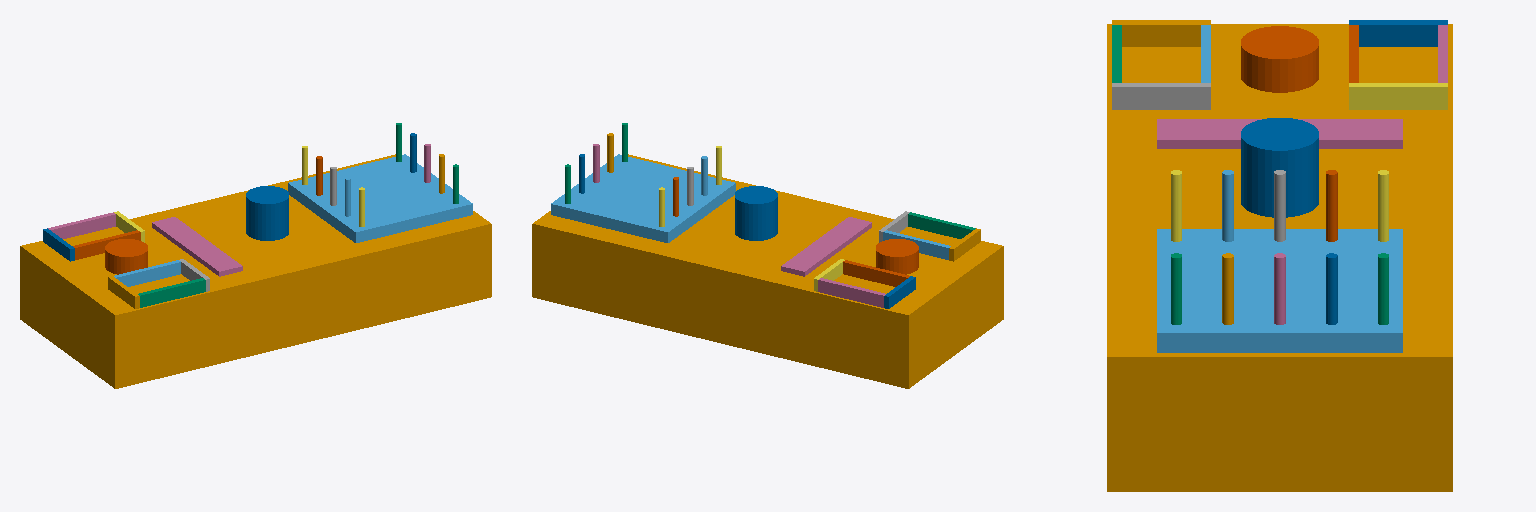
URDF robot description (carritov2):
<?xml version="1.0"?>
<robot name="carritov2">

  <link name="chasis1">
    <inertial>
      <origin xyz="0 0 0" rpy="0 0 0"/>
      <mass value="1.0" />
      <inertia ixx="0.0741666666667" ixy="0.0" ixz="0.0" iyy="0.0585416666667" iyz="0.0" izz="0.0260416666667"/>
    </inertial>
    <visual>
      <geometry>
        <box size="1.60 0.70 0.30"/> <!--cotas en cm -->
      </geometry>
    </visual>
  </link>

  <link name="chasis2">
    <inertial>
      <origin xyz="0 0 0" rpy="0 0 0"/>
      <mass value="1.0" />
      <inertia ixx="0.0741666666667" ixy="0.0" ixz="0.0" iyy="0.0585416666667" iyz="0.0" izz="0.0260416666667"/>
    </inertial>
    <visual>
      <geometry>
        <box size="0.5 0.5 0.05"/>
      </geometry>
      <material name="aluminium"/>
    </visual>
  </link>

  <joint name="chasis1_to_chasis2" type="fixed">
    <parent link="chasis1"/>
    <child link="chasis2"/>
    <origin rpy="0 0 0" xyz="0.53 0 0.17"/>
  </joint>




 <!-- CODIGO SOPORTES -->




  <link name="soporte1_base1">
    <inertial>
      <origin xyz="0 0 0" rpy="0 0 0"/>
      <mass value="1.0" />
      <inertia ixx="0.0741666666667" ixy="0.0" ixz="0.0" iyy="0.0585416666667" iyz="0.0" izz="0.0260416666667"/>
    </inertial>
    <visual>
      <geometry>
        <cylinder length="0.15" radius="0.012"/>
      </geometry>
    </visual>
  </link>

  <joint name="soporte1_base1_to_chasis2" type="fixed">
    <parent link="chasis2"/>
    <child link="soporte1_base1"/>
    <origin rpy="0 0 0" xyz="0.2 0.21 0.100"/>
  </joint>

  <link name="soporte1_base2">
    <inertial>
      <origin xyz="0 0 0" rpy="0 0 0"/>
      <mass value="1.0" />
      <inertia ixx="0.0741666666667" ixy="0.0" ixz="0.0" iyy="0.0585416666667" iyz="0.0" izz="0.0260416666667"/>
    </inertial>
    <visual>
      <geometry>
        <cylinder length="0.15" radius="0.012"/>
      </geometry>
    </visual>
  </link>

  <joint name="soporte1_base2_to_chasis2" type="fixed">
    <parent link="chasis2"/>
    <child link="soporte1_base2"/>
    <origin rpy="0 0 0" xyz="-0.2 0.21 0.1000"/>
  </joint>

  <link name="soporte2_base1">
    <inertial>
      <origin xyz="0 0 0" rpy="0 0 0"/>
      <mass value="1.0" />
      <inertia ixx="0.0741666666667" ixy="0.0" ixz="0.0" iyy="0.0585416666667" iyz="0.0" izz="0.0260416666667"/>
    </inertial>
    <visual>
      <geometry>
        <cylinder length="0.15" radius="0.012"/>
      </geometry>
    </visual>
  </link>

  <joint name="soporte2_base1_to_chasis2" type="fixed">
    <parent link="chasis2"/>
    <child link="soporte2_base1"/>
    <origin rpy="0 0 0" xyz="0.2 0.1050 0.100"/>
  </joint>

  <link name="soporte2_base2">
    <inertial>
      <origin xyz="0 0 0" rpy="0 0 0"/>
      <mass value="1.0" />
      <inertia ixx="0.0741666666667" ixy="0.0" ixz="0.0" iyy="0.0585416666667" iyz="0.0" izz="0.0260416666667"/>
    </inertial>
    <visual>
      <geometry>
        <cylinder length="0.15" radius="0.012"/>
      </geometry>
    </visual>
  </link>

  <joint name="soporte2_base2_to_chasis2" type="fixed">
    <parent link="chasis2"/>
    <child link="soporte2_base2"/>
    <origin rpy="0 0 0" xyz="-0.2 0.1050 0.100"/>
  </joint>

  <link name="soporte3_base1">
    <inertial>
      <origin xyz="0 0 0" rpy="0 0 0"/>
      <mass value="1.0" />
      <inertia ixx="0.0741666666667" ixy="0.0" ixz="0.0" iyy="0.0585416666667" iyz="0.0" izz="0.0260416666667"/>
    </inertial>
    <visual>
      <geometry>
        <cylinder length="0.15" radius="0.012"/>
      </geometry>
    </visual>
  </link>

  <joint name="soporte3_base1_to_chasis2" type="fixed">
    <parent link="chasis2"/>
    <child link="soporte3_base1"/>
    <origin rpy="0 0 0" xyz="0.2 0 0.100"/>
  </joint>

  <link name="soporte3_base2">
    <inertial>
      <origin xyz="0 0 0" rpy="0 0 0"/>
      <mass value="1.0" />
      <inertia ixx="0.0741666666667" ixy="0.0" ixz="0.0" iyy="0.0585416666667" iyz="0.0" izz="0.0260416666667"/>
    </inertial>
    <visual>
      <geometry>
        <cylinder length="0.15" radius="0.012"/>
      </geometry>
    </visual>
  </link>

  <joint name="soporte3_base2_to_chasis2" type="fixed">
    <parent link="chasis2"/>
    <child link="soporte3_base2"/>
    <origin rpy="0 0 0" xyz="-0.2 0 0.100"/>
  </joint>

  <link name="soporte4_base1">
    <inertial>
      <origin xyz="0 0 0" rpy="0 0 0"/>
      <mass value="1.0" />
      <inertia ixx="0.0741666666667" ixy="0.0" ixz="0.0" iyy="0.0585416666667" iyz="0.0" izz="0.0260416666667"/>
    </inertial>
    <visual>
      <geometry>
        <cylinder length="0.15" radius="0.012"/>
      </geometry>
    </visual>
  </link>

  <joint name="soporte4_base1_to_chasis2" type="fixed">
    <parent link="chasis2"/>
    <child link="soporte4_base1"/>
    <origin rpy="0 0 0" xyz="0.2 -0.105 0.100"/>
  </joint>

  <link name="soporte4_base2">
    <inertial>
      <origin xyz="0 0 0" rpy="0 0 0"/>
      <mass value="1.0" />
      <inertia ixx="0.0741666666667" ixy="0.0" ixz="0.0" iyy="0.0585416666667" iyz="0.0" izz="0.0260416666667"/>
    </inertial>
    <visual>
      <geometry>
        <cylinder length="0.15" radius="0.012"/>
      </geometry>
    </visual>
  </link>

  <joint name="soporte4_base2_to_chasis2" type="fixed">
    <parent link="chasis2"/>
    <child link="soporte4_base2"/>
    <origin rpy="0 0 0" xyz="-0.2 -0.105 0.100"/>
  </joint>

  <link name="soporte5_base1">
    <inertial>
      <origin xyz="0 0 0" rpy="0 0 0"/>
      <mass value="1.0" />
      <inertia ixx="0.0741666666667" ixy="0.0" ixz="0.0" iyy="0.0585416666667" iyz="0.0" izz="0.0260416666667"/>
    </inertial>
    <visual>
      <geometry>
        <cylinder length="0.15" radius="0.012"/>
      </geometry>
    </visual>
  </link>

  <joint name="soporte5_base1_to_chasis2" type="fixed">
    <parent link="chasis2"/>
    <child link="soporte5_base1"/>
    <origin rpy="0 0 0" xyz="0.2 -0.210 0.100"/>
  </joint>

  <link name="soporte5_base2">
    <inertial>
      <origin xyz="0 0 0" rpy="0 0 0"/>
      <mass value="1.0" />
      <inertia ixx="0.0741666666667" ixy="0.0" ixz="0.0" iyy="0.0585416666667" iyz="0.0" izz="0.0260416666667"/>
    </inertial>
    <visual>
      <geometry>
        <cylinder length="0.15" radius="0.012"/>
      </geometry>
    </visual>
  </link>

  <joint name="soporte5_base2_to_chasis2" type="fixed">
    <parent link="chasis2"/>
    <child link="soporte5_base2"/>
    <origin rpy="0 0 0" xyz="-0.2 -0.210 0.100"/>
  </joint>





<!-- CÓDIGO SOPORTES BRAZOS -->





  <link name="soporte_ur3_sep">
    <inertial>
      <origin xyz="0 0 0" rpy="0 0 0"/>
      <mass value="1.0" />
      <inertia ixx="0.0741666666667" ixy="0.0" ixz="0.0" iyy="0.0585416666667" iyz="0.0" izz="0.0260416666667"/>
    </inertial>
    <visual>
      <geometry>
        <cylinder length="0.15" radius="0.08"/>
      </geometry>
    </visual>
  </link>

  <joint name="soporte_ur3_sep_to_chassis1" type="fixed">
    <parent link="chasis1"/>
    <child link="soporte_ur3_sep"/>
    <origin rpy="0 0 0" xyz="0.05 0 0.2250"/>
  </joint>

  <link name="soporte_ur3_at">
    <inertial>
      <origin xyz="0 0 0" rpy="0 0 0"/>
      <mass value="1.0" />
      <inertia ixx="0.0741666666667" ixy="0.0" ixz="0.0" iyy="0.0585416666667" iyz="0.0" izz="0.0260416666667"/>
    </inertial>
    <visual>
      <geometry>
        <cylinder length="0.075" radius="0.08"/>
      </geometry>
    </visual>
  </link>

  <joint name="soporte_ur3_at_to_chassis1" type="fixed">
    <parent link="chasis1"/>
    <child link="soporte_ur3_at"/>
    <origin rpy="0 0 0" xyz="-0.55 0 0.1875"/>
  </joint>




<!-- CÓDIGO ZONA DE TRABAJO Y BUFFERS -->




  <link name="zona_union">
    <inertial>
      <origin xyz="0 0 0" rpy="0 0 0"/>
      <mass value="1.0" />
      <inertia ixx="0.0741666666667" ixy="0.0" ixz="0.0" iyy="0.0585416666667" iyz="0.0" izz="0.0260416666667"/>
    </inertial>
    <visual>
      <geometry>
        <box size="0.1 0.5 0.02"/>
      </geometry>
      <material name="aluminium"/>
    </visual>
  </link>

  <joint name="chasis1_to_zona_union" type="fixed">
    <parent link="chasis1"/>
    <child link="zona_union"/>
    <origin rpy="0 0 0" xyz="-0.25 0 0.16"/>
  </joint>

  <link name="pared1_buffer1">
    <inertial>
      <origin xyz="0 0 0" rpy="0 0 0"/>
      <mass value="1.0" />
      <inertia ixx="0.0741666666667" ixy="0.0" ixz="0.0" iyy="0.0585416666667" iyz="0.0" izz="0.0260416666667"/>
    </inertial>
    <visual>
      <geometry>
        <box size="0.02 0.2 0.05"/>
      </geometry>
      <material name="aluminium"/>
    </visual>
  </link>

  <joint name="chasis1_to_pared1_buffer1" type="fixed">
    <parent link="chasis1"/>
    <child link="pared1_buffer1"/>
    <origin rpy="0 0 0" xyz="-0.4 -0.24 0.175"/>
  </joint>

  <link name="pared2_buffer1">
    <inertial>
      <origin xyz="0 0 0" rpy="0 0 0"/>
      <mass value="1.0" />
      <inertia ixx="0.0741666666667" ixy="0.0" ixz="0.0" iyy="0.0585416666667" iyz="0.0" izz="0.0260416666667"/>
    </inertial>
    <visual>
      <geometry>
        <box size="0.02 0.2 0.05"/>
      </geometry>
      <material name="aluminium"/>
    </visual>
  </link>

  <joint name="chasis1_to_pared2_buffer1" type="fixed">
    <parent link="chasis1"/>
    <child link="pared2_buffer1"/>
    <origin rpy="0 0 0" xyz="-0.7 -0.24 0.175"/>
  </joint>

  <link name="pared3_buffer1">
    <inertial>
      <origin xyz="0 0 0" rpy="0 0 0"/>
      <mass value="1.0" />
      <inertia ixx="0.0741666666667" ixy="0.0" ixz="0.0" iyy="0.0585416666667" iyz="0.0" izz="0.0260416666667"/>
    </inertial>
    <visual>
      <geometry>
        <box size="0.02 0.28 0.05"/>
      </geometry>
      <material name="aluminium"/>
    </visual>
  </link>

  <joint name="chasis1_to_pared3_buffer1" type="fixed">
    <parent link="chasis1"/>
    <child link="pared3_buffer1"/>
    <origin rpy="0 0 1.57" xyz="-0.55 -0.15 0.175"/>
  </joint>

  <link name="pared4_buffer1">
    <inertial>
      <origin xyz="0 0 0" rpy="0 0 0"/>
      <mass value="1.0" />
      <inertia ixx="0.0741666666667" ixy="0.0" ixz="0.0" iyy="0.0585416666667" iyz="0.0" izz="0.0260416666667"/>
    </inertial>
    <visual>
      <geometry>
        <box size="0.02 0.28 0.05"/>
      </geometry>
      <material name="aluminium"/>
    </visual>
  </link>

  <joint name="chasis1_to_pared4_buffer1" type="fixed">
    <parent link="chasis1"/>
    <child link="pared4_buffer1"/>
    <origin rpy="0 0 1.57" xyz="-0.55 -0.33 0.175"/>
  </joint>

  <link name="pared1_buffer2">
    <inertial>
      <origin xyz="0 0 0" rpy="0 0 0"/>
      <mass value="1.0" />
      <inertia ixx="0.0741666666667" ixy="0.0" ixz="0.0" iyy="0.0585416666667" iyz="0.0" izz="0.0260416666667"/>
    </inertial>
    <visual>
      <geometry>
        <box size="0.02 0.2 0.05"/>
      </geometry>
      <material name="aluminium"/>
    </visual>
  </link>

  <joint name="chasis1_to_pared1_buffer2" type="fixed">
    <parent link="chasis1"/>
    <child link="pared1_buffer2"/>
    <origin rpy="0 0 0" xyz="-0.4 0.24 0.175"/>
  </joint>

  <link name="pared2_buffer2">
    <inertial>
      <origin xyz="0 0 0" rpy="0 0 0"/>
      <mass value="1.0" />
      <inertia ixx="0.0741666666667" ixy="0.0" ixz="0.0" iyy="0.0585416666667" iyz="0.0" izz="0.0260416666667"/>
    </inertial>
    <visual>
      <geometry>
        <box size="0.02 0.2 0.05"/>
      </geometry>
      <material name="aluminium"/>
    </visual>
  </link>

  <joint name="chasis1_to_pared2_buffer2" type="fixed">
    <parent link="chasis1"/>
    <child link="pared2_buffer2"/>
    <origin rpy="0 0 0" xyz="-0.7 0.24 0.175"/>
  </joint>

  <link name="pared3_buffer2">
    <inertial>
      <origin xyz="0 0 0" rpy="0 0 0"/>
      <mass value="1.0" />
      <inertia ixx="0.0741666666667" ixy="0.0" ixz="0.0" iyy="0.0585416666667" iyz="0.0" izz="0.0260416666667"/>
    </inertial>
    <visual>
      <geometry>
        <box size="0.02 0.28 0.05"/>
      </geometry>
      <material name="aluminium"/>
    </visual>
  </link>

  <joint name="chasis1_to_pared3_buffer2" type="fixed">
    <parent link="chasis1"/>
    <child link="pared3_buffer2"/>
    <origin rpy="0 0 1.57" xyz="-0.55 0.15 0.175"/>
  </joint>

  <link name="pared4_buffer2">
    <inertial>
      <origin xyz="0 0 0" rpy="0 0 0"/>
      <mass value="1.0" />
      <inertia ixx="0.0741666666667" ixy="0.0" ixz="0.0" iyy="0.0585416666667" iyz="0.0" izz="0.0260416666667"/>
    </inertial>
    <visual>
      <geometry>
        <box size="0.02 0.28 0.05"/>
      </geometry>
      <material name="aluminium"/>
    </visual>
  </link>

  <joint name="chasis1_to_pared4_buffer2" type="fixed">
    <parent link="chasis1"/>
    <child link="pared4_buffer2"/>
    <origin rpy="0 0 1.57" xyz="-0.55 0.33 0.175"/>
  </joint>



<!-- CÓDIGO SEPARADORES -->





  <!--<gazebo>
    <plugin name="gazebo_ros_control" filename="libgazebo_ros_control.so">
      <robotNamespace>/</robotNamespace>
    </plugin>
  </gazebo>-->

  <gazebo>
    <static>true</static>
  </gazebo>

</robot>

--- Facts derived from the render (not from the file) ---
3 views of the same robot in one strip: view 1: azimuth 30°, elevation 25°; view 2: azimuth 150°, elevation 25°; view 3: azimuth 270°, elevation 25° (orthographic).
Model carritov2 with 23 links and 22 joints (22 fixed), rooted at chasis1, posed every joint at zero.
Links seen in each view (by area): view 1: chasis1, chasis2, soporte_ur3_sep, zona_union, soporte_ur3_at, pared4_buffer1, pared4_buffer2, pared3_buffer1, pared3_buffer2; view 2: chasis1, chasis2, soporte_ur3_sep, zona_union, soporte_ur3_at, pared4_buffer2, pared4_buffer1, pared3_buffer2, pared3_buffer1; view 3: chasis1, chasis2, soporte_ur3_sep, zona_union, soporte_ur3_at, pared1_buffer1, pared1_buffer2, pared2_buffer1, pared2_buffer2, soporte2_base2, soporte4_base2, soporte3_base1 (+11 smaller).
Boxes of the visible links, x1,y1,x2,y2 form: chasis1: (20,154,491,388); chasis2: (288,154,472,242); soporte_ur3_sep: (246,186,288,240); zona_union: (152,217,242,276); soporte_ur3_at: (105,239,147,274); pared4_buffer1: (138,278,205,307); pared4_buffer2: (48,212,115,238); pared3_buffer1: (114,260,180,286); pared3_buffer2: (73,230,140,259); chasis1: (532,154,1003,388); chasis2: (551,154,735,242); soporte_ur3_sep: (735,186,777,240); zona_union: (781,217,871,276); soporte_ur3_at: (876,239,918,274); pared4_buffer2: (818,278,885,307); pared4_buffer1: (908,212,975,238); pared3_buffer2: (843,260,909,286); pared3_buffer1: (883,230,950,259); chasis1: (1107,24,1452,491); chasis2: (1157,229,1402,352); soporte_ur3_sep: (1241,118,1318,217); zona_union: (1157,119,1402,148); soporte_ur3_at: (1241,26,1318,92); pared1_buffer1: (1112,83,1210,109); pared1_buffer2: (1349,83,1447,109); pared2_buffer1: (1112,20,1210,46); pared2_buffer2: (1349,20,1447,46); soporte2_base2: (1326,170,1337,241); soporte4_base2: (1222,170,1233,241); soporte3_base1: (1274,253,1285,324).
Bounding box of the posed robot: 1.6 × 0.7 × 0.495 m (x, y, z).
Geometry: primitives only (box / cylinder / sphere), no mesh files.